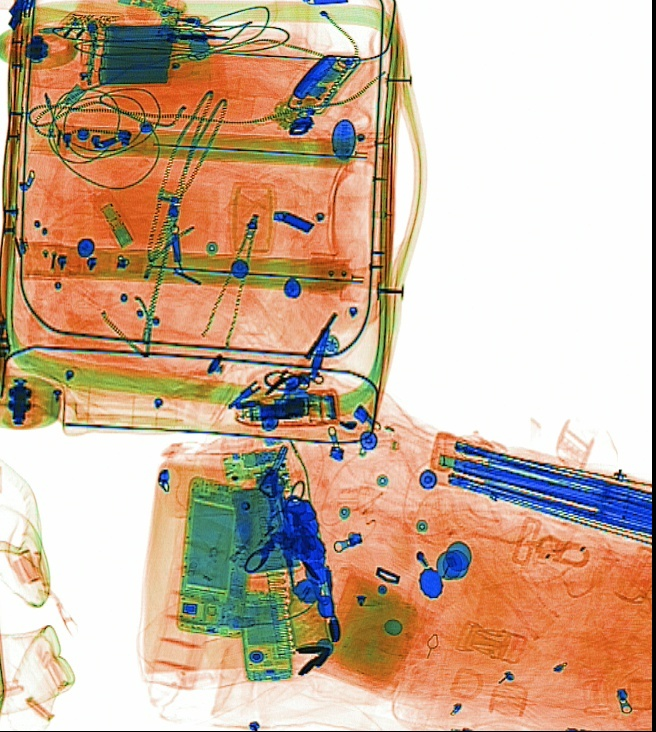powerbank: (77, 8, 179, 88)
